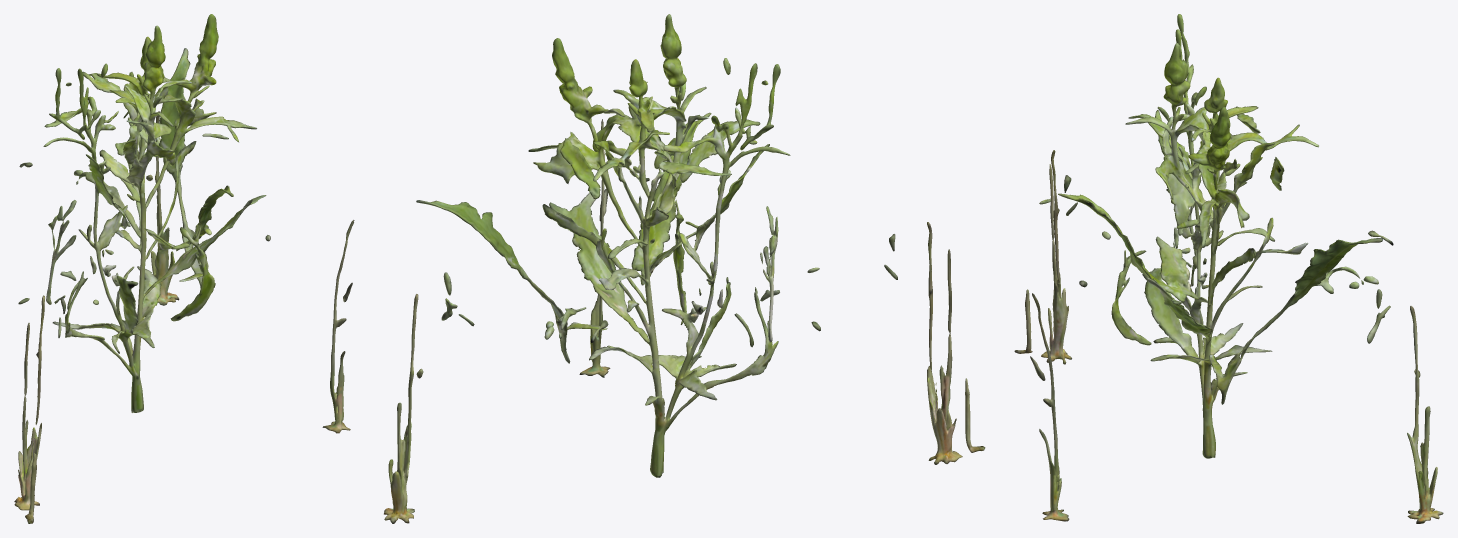
Rendered from climber0021_dup.gltf.
3 renders of one model, left to right at view 1: azimuth 30°, elevation 25°; view 2: azimuth 150°, elevation 25°; view 3: azimuth 270°, elevation 25°, orthographic. The views are drawn at different scales.
Parts seen in each view (by area): view 1: Mesh_0; view 2: Mesh_0; view 3: Mesh_0.
Part boxes in pixels (x1=…): Mesh_0: x1=14, y1=14, x2=354, y2=523; Mesh_0: x1=384, y1=14, x2=985, y2=523; Mesh_0: x1=1014, y1=14, x2=1443, y2=523.
Bounding box in the file's own units: 1.8 × 2.01 × 1.87.
Materials: 1 (1 with a texture image).
